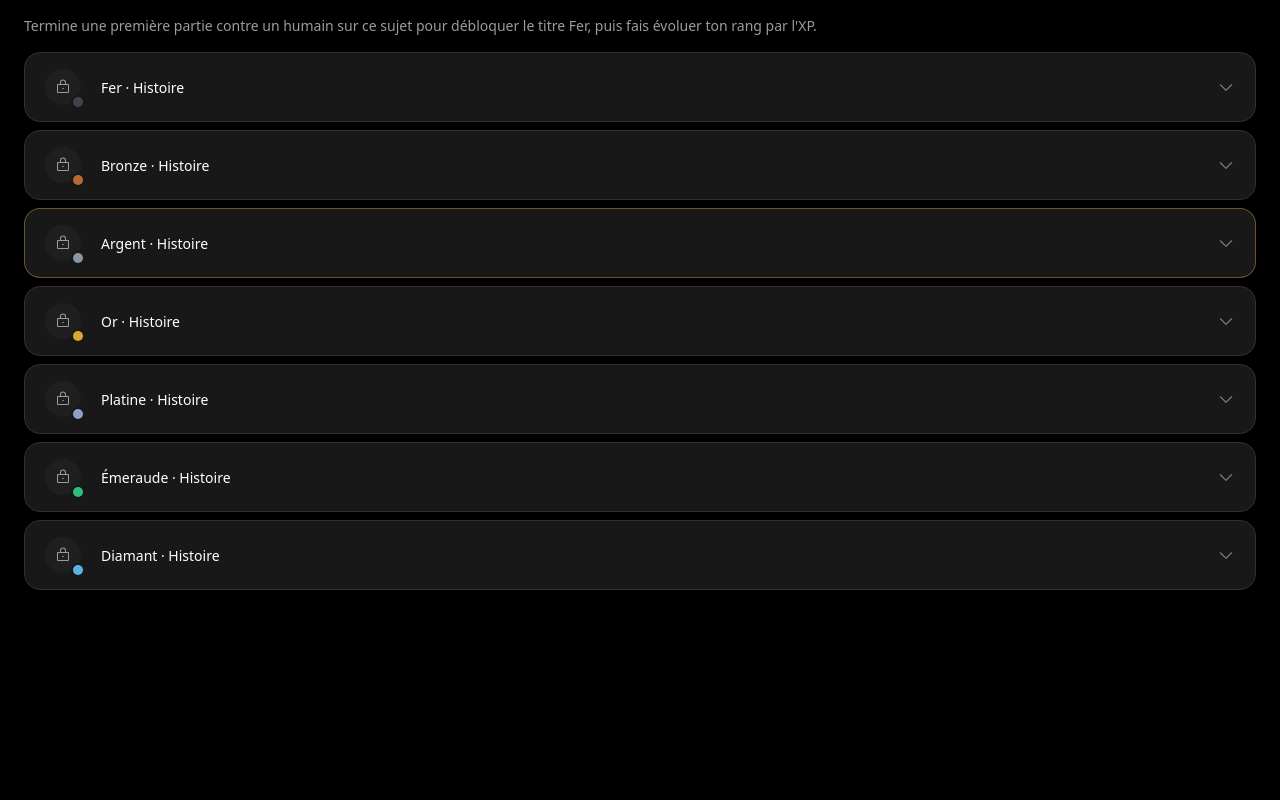
Scenario: TopicTitlesTab › sans partie humaine : toute l'échelle est verrouillée et Fer annonce sa condition
What coordinates should you click on to do the following:
click the button "Fer · Histoire"
I would click on:
 (63, 87)
Its box is [25,53,1255,121].
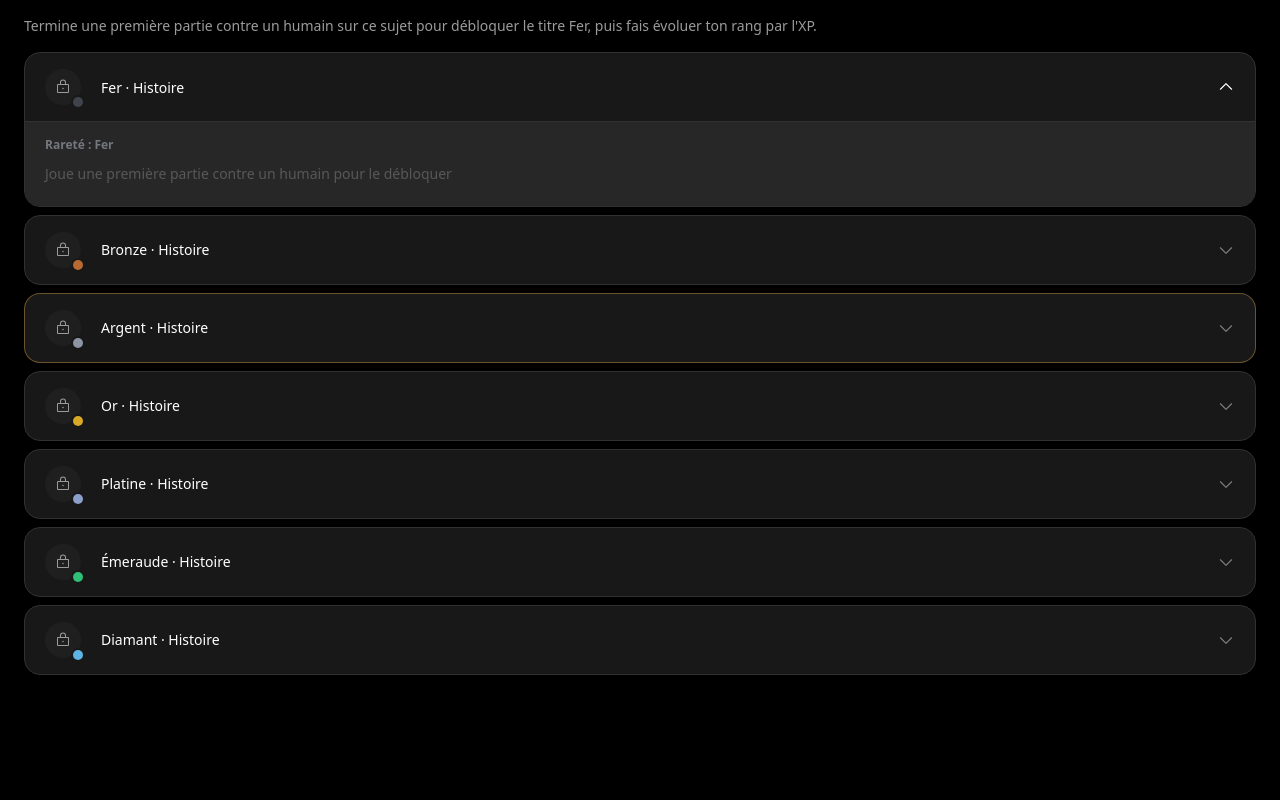
Expected: the text "Joue une première partie contre un humain pour le débloquer" is shown, [45,164,452,183]
